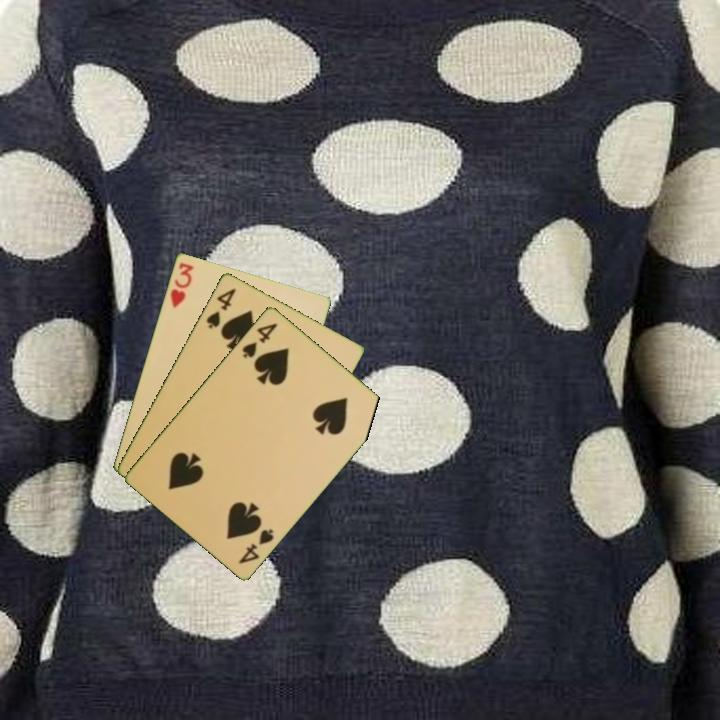3h: (166, 259, 196, 311)
4s: (235, 525, 277, 567), (203, 284, 239, 332), (239, 319, 280, 361)
